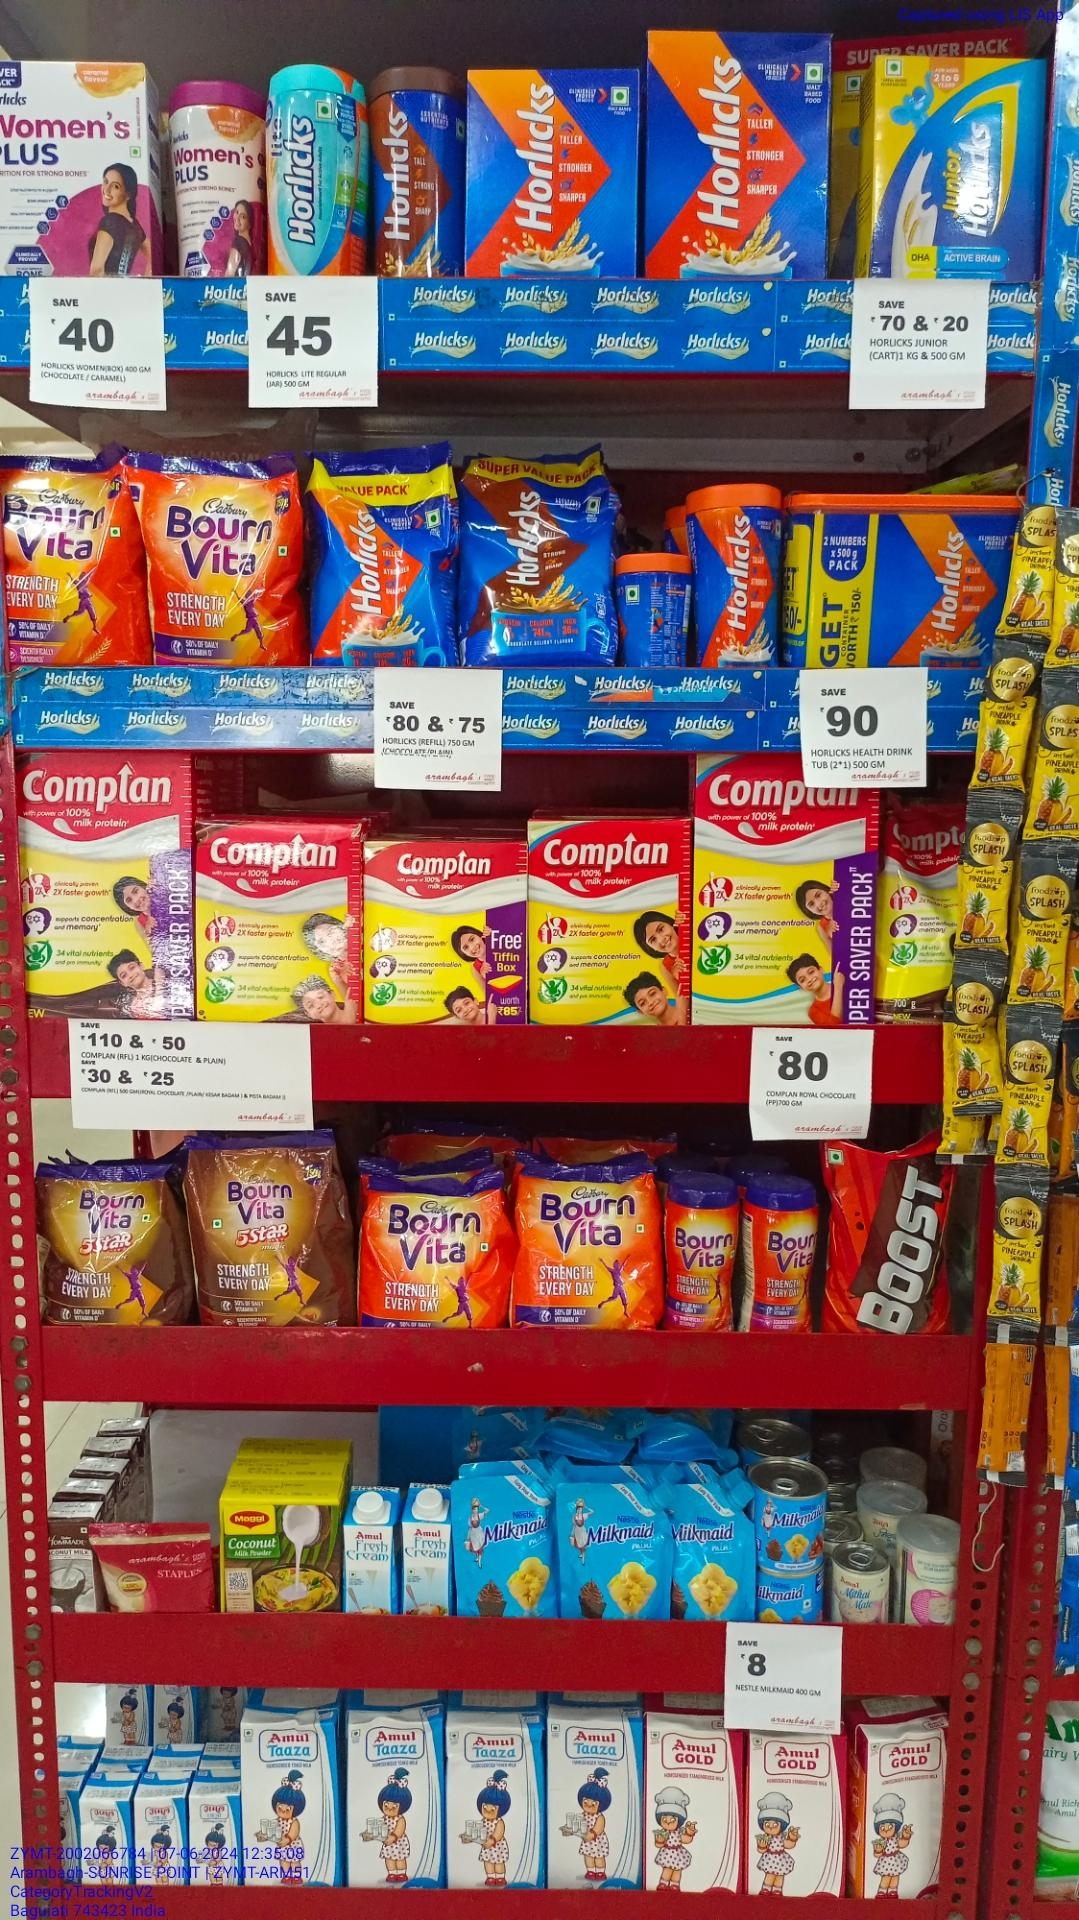BOURN_VITA_FIVE_STAR_MAGIC_500_G_POUCH: (197, 1137, 357, 1325), (42, 1167, 181, 1320)
HORLICKS_LITE_REGULAR_MALT_500_GM_JAR: (268, 75, 364, 285)
HORLICK_MALT_1_KG_CONTAINER: (795, 495, 1004, 669)
